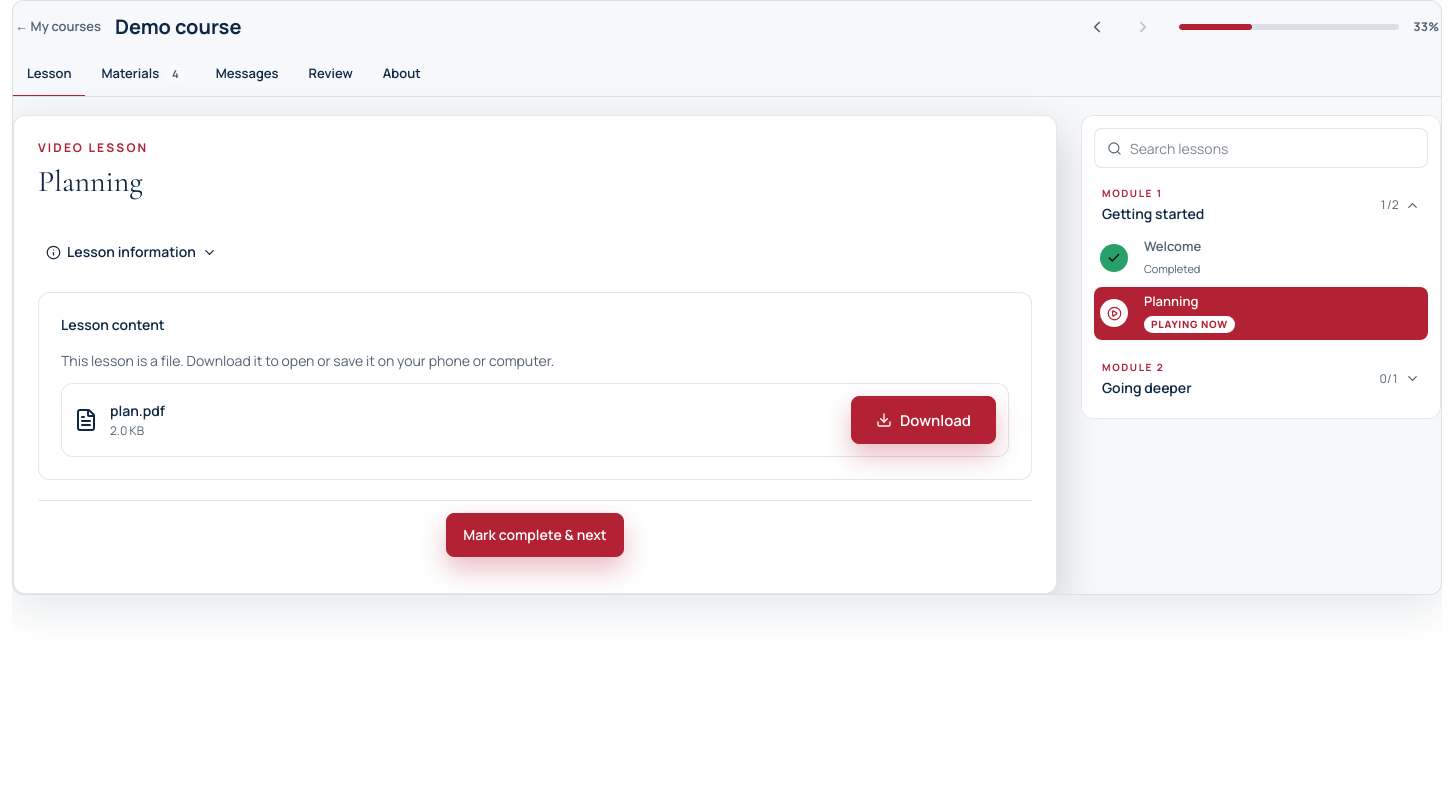
Test: aula só de arquivo › quando o storage recusa o link, aparece o aviso e nada é baixado
Click the button with aria-label "Download plan.pdf".
click(923, 420)  # box x1=851 y1=396 x2=996 y2=444
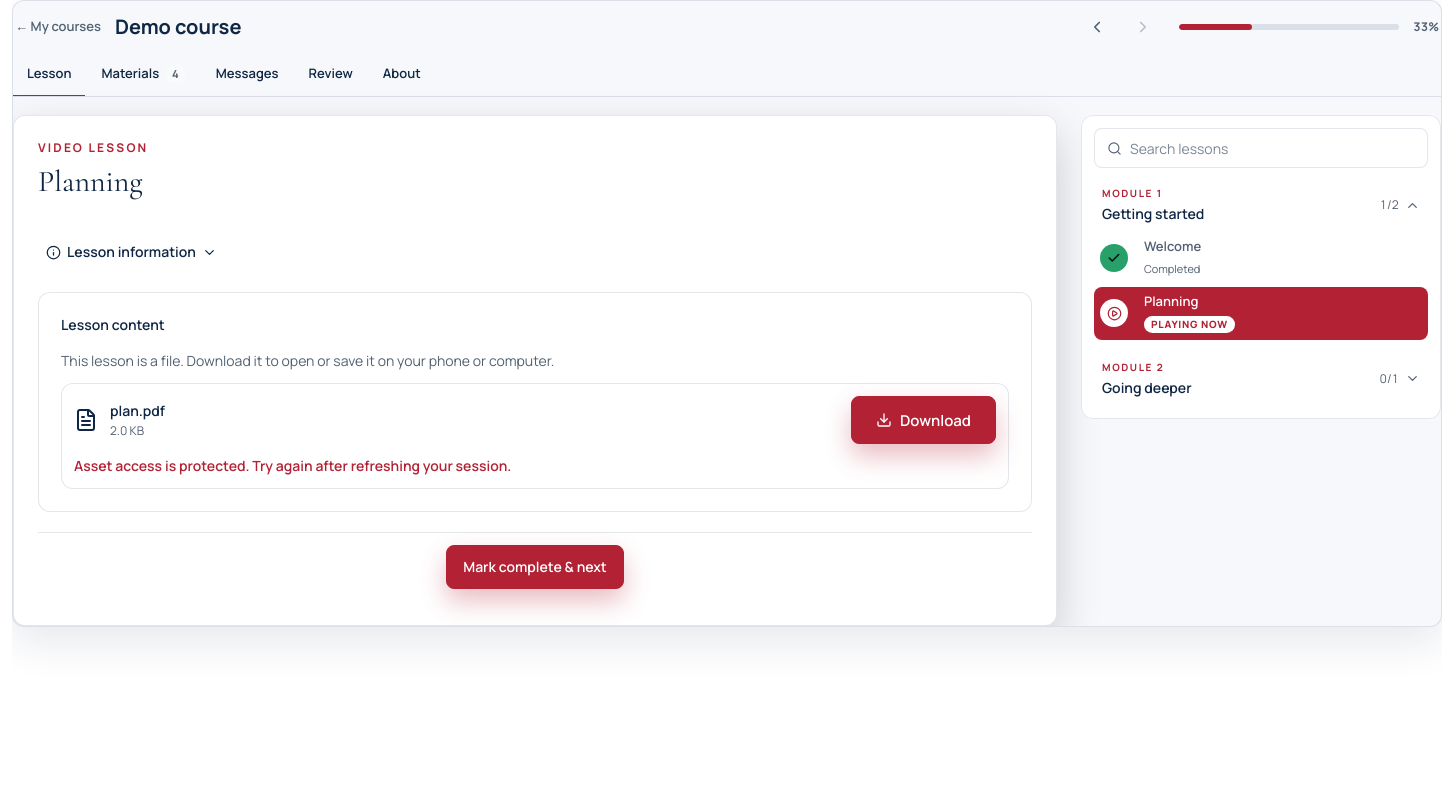
Expected: the message reads "Asset access is protected. Try again after refreshing your session.", x1=74 y1=456 x2=511 y2=475
